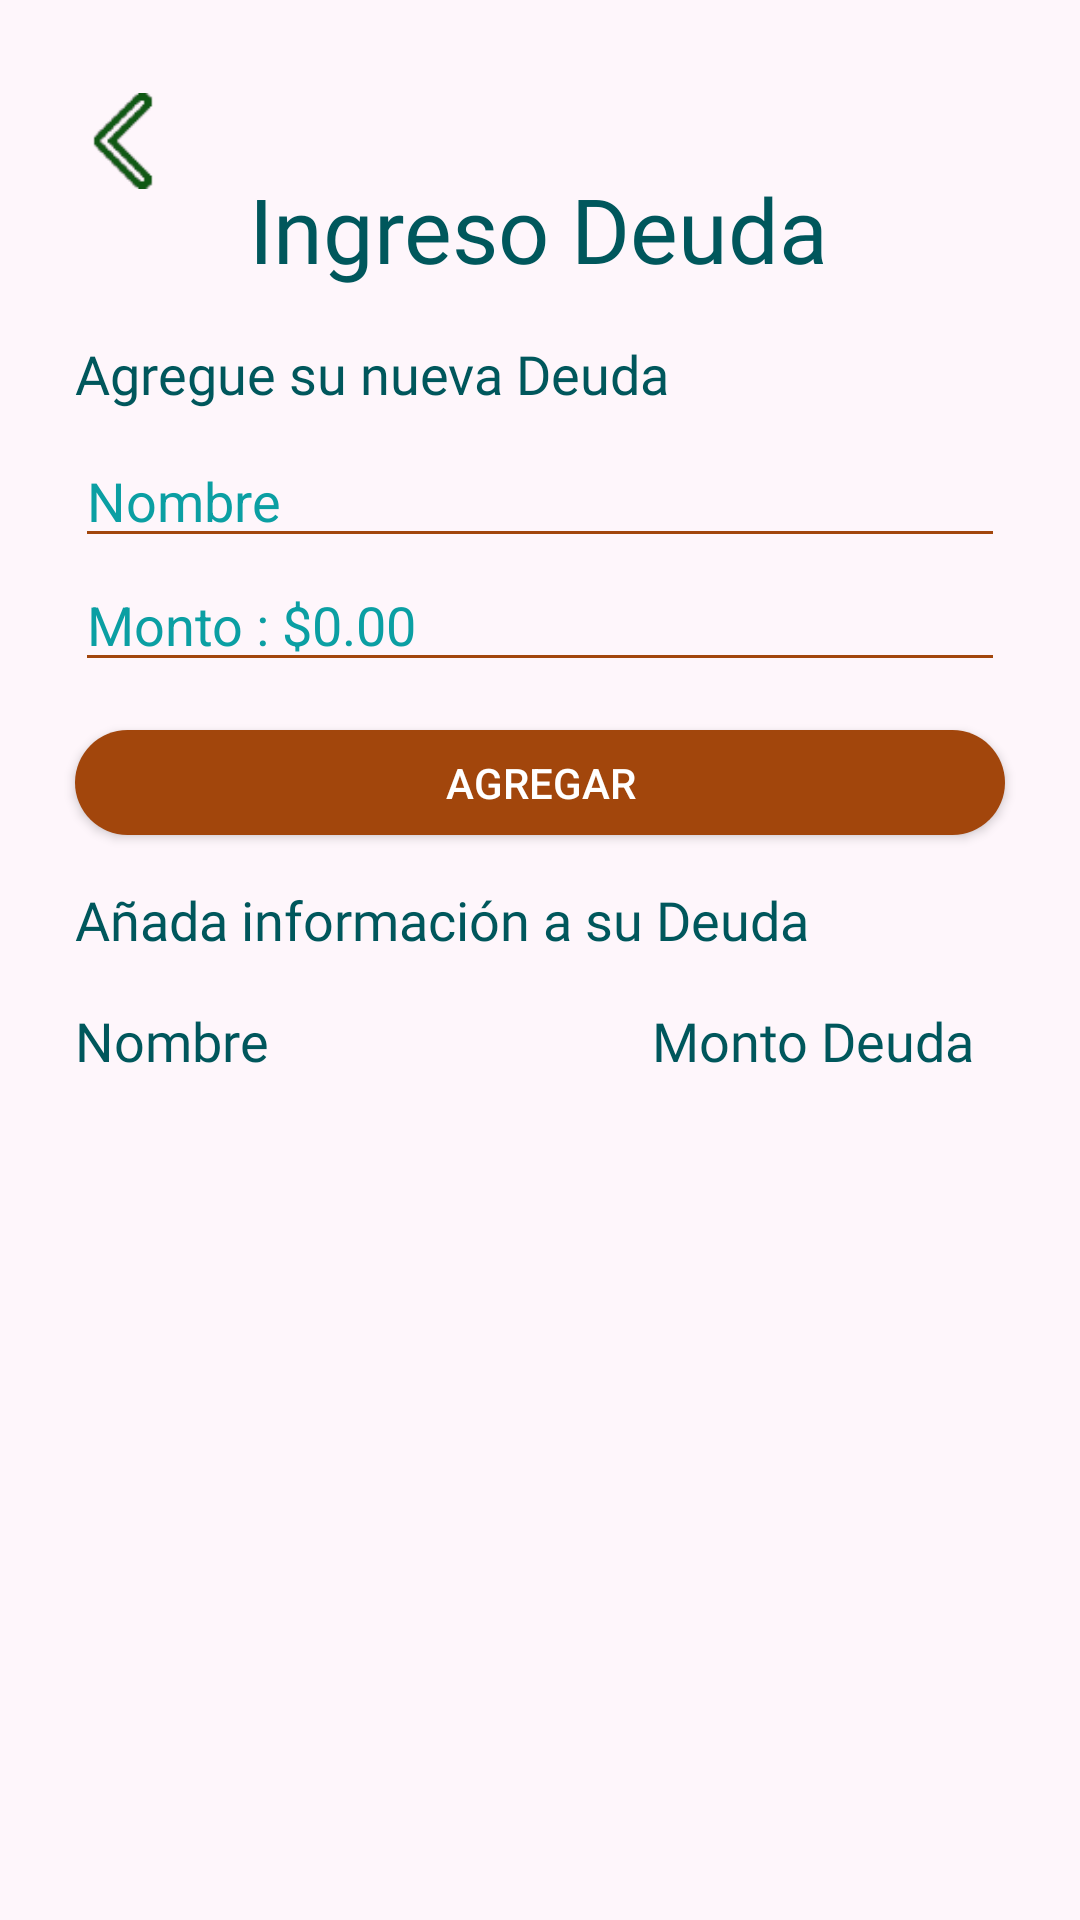

Named icons in this screenshot (1080*1920) and their centers, [x,y]:
flecha: [123,141]
